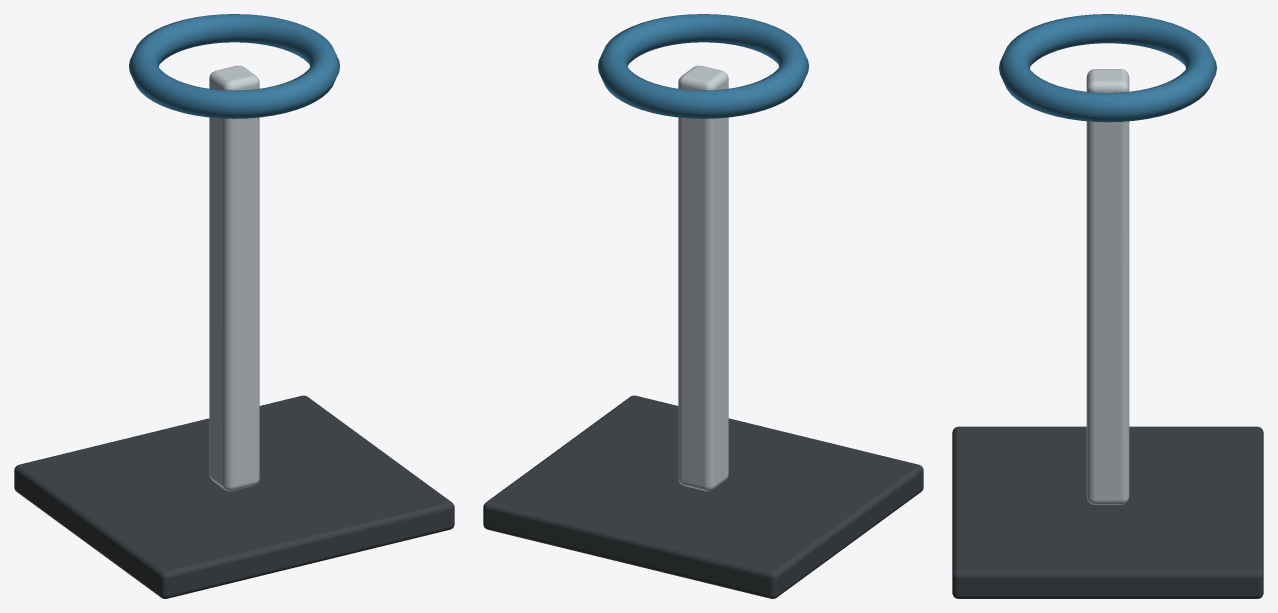
The model's file is recycling-centre-and-material-sorting-duct-support-sad-6e95e38b__31150.glb.
3 views of the same model, side by side, from view 1: azimuth 30°, elevation 25°; view 2: azimuth 150°, elevation 25°; view 3: azimuth 270°, elevation 25° (orthographic). The views are drawn at different scales.
Visible parts, largest first — view 1: duct-support-saddle; view 2: duct-support-saddle; view 3: duct-support-saddle.
Part boxes in pixels (x1,y1,x2,y2): duct-support-saddle: (14, 14, 454, 598); duct-support-saddle: (483, 14, 923, 598); duct-support-saddle: (952, 14, 1263, 598).
Size of the model in its own units: 0.45 by 0.67 by 0.4.
